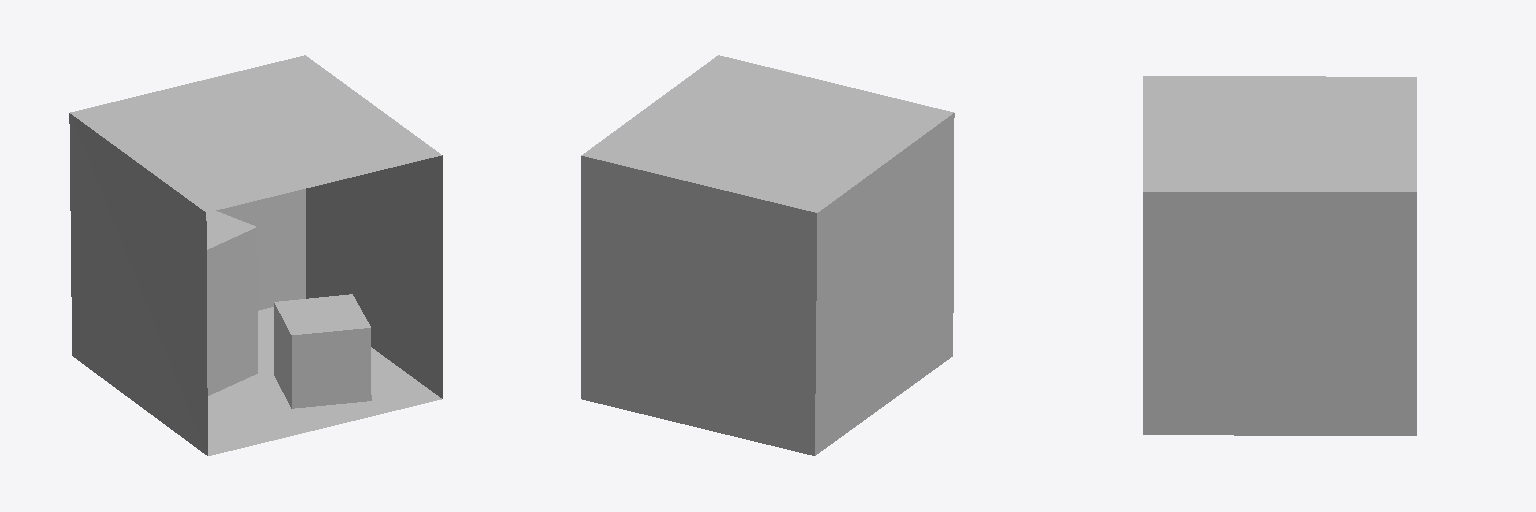
File: textured-cornell-box.obj
The picture shows the model from 3 angles: view 1: azimuth 30°, elevation 25°; view 2: azimuth 150°, elevation 25°; view 3: azimuth 270°, elevation 25°; orthographic projection.
Visible parts, largest first — view 1: left_wall, ceiling, right_wall, floor, short_box, tall_box, back_wall; view 2: back_wall, left_wall, ceiling; view 3: right_wall, ceiling.
Part boxes in pixels (left/top/right/bottom): left_wall: left=69, top=113, right=207, bottom=455; ceiling: left=70, top=55, right=441, bottom=212; right_wall: left=306, top=155, right=442, bottom=398; floor: left=208, top=307, right=441, bottom=455; short_box: left=274, top=294, right=371, bottom=408; tall_box: left=206, top=211, right=257, bottom=395; back_wall: left=216, top=189, right=305, bottom=310; back_wall: left=581, top=156, right=816, bottom=455; left_wall: left=815, top=113, right=954, bottom=455; ceiling: left=581, top=55, right=953, bottom=212; right_wall: left=1143, top=192, right=1416, bottom=435; ceiling: left=1143, top=76, right=1416, bottom=191.
Size of the model in its own units: 5.56 by 5.49 by 5.6.